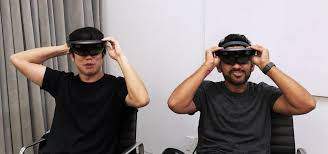hololens: (216, 42, 257, 65), (68, 38, 106, 58)
